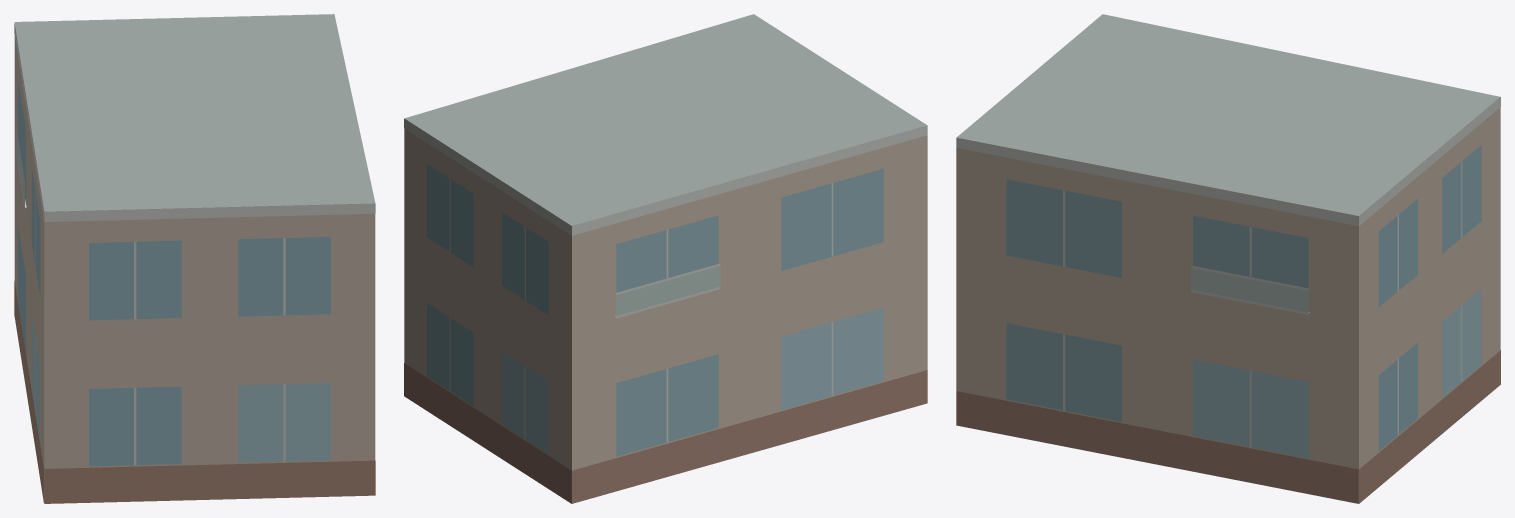
Rendered from survey-upis-32499030.glb.
3 renders of one model, left to right at view 1: azimuth 30°, elevation 25°; view 2: azimuth 150°, elevation 25°; view 3: azimuth 270°, elevation 25°, orthographic. The views are drawn at different scales.
Visible parts, largest first — view 1: survey-upis-32499030.tmp; view 2: survey-upis-32499030.tmp; view 3: survey-upis-32499030.tmp.
Part boxes in pixels (x1,y1,x2,y2): survey-upis-32499030.tmp: (14, 14, 375, 503); survey-upis-32499030.tmp: (404, 14, 927, 503); survey-upis-32499030.tmp: (956, 14, 1500, 503).
Bounding box in the file's own units: 10.4 × 6.9 × 11.84.
